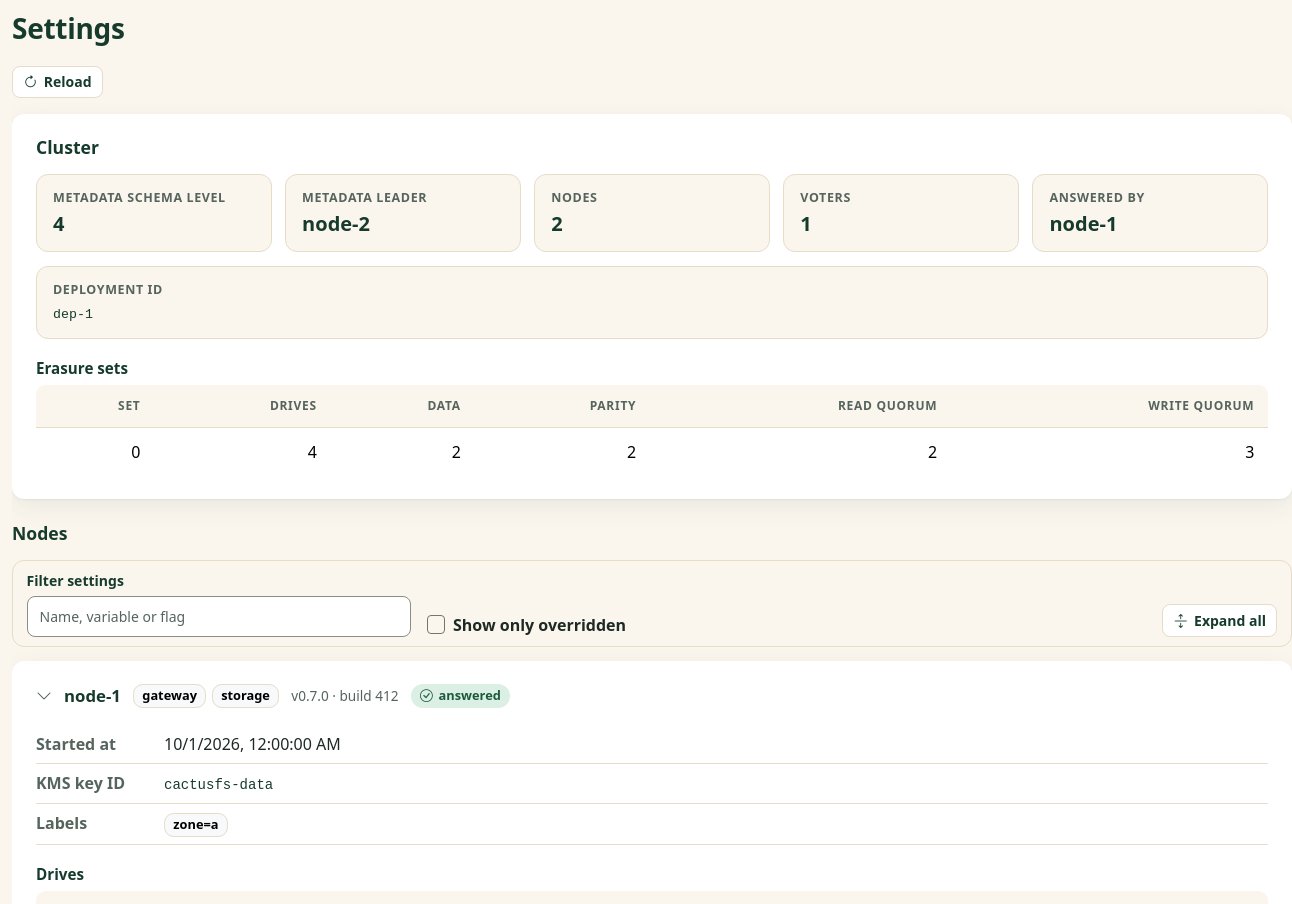
it: settings › opens the card of the answering node alone, and opens and closes all of them on request
The width and height of the screenshot is (1292, 904).
Step 1. Click the button "Expand all" → (1220, 620), box [1162,604,1277,637]
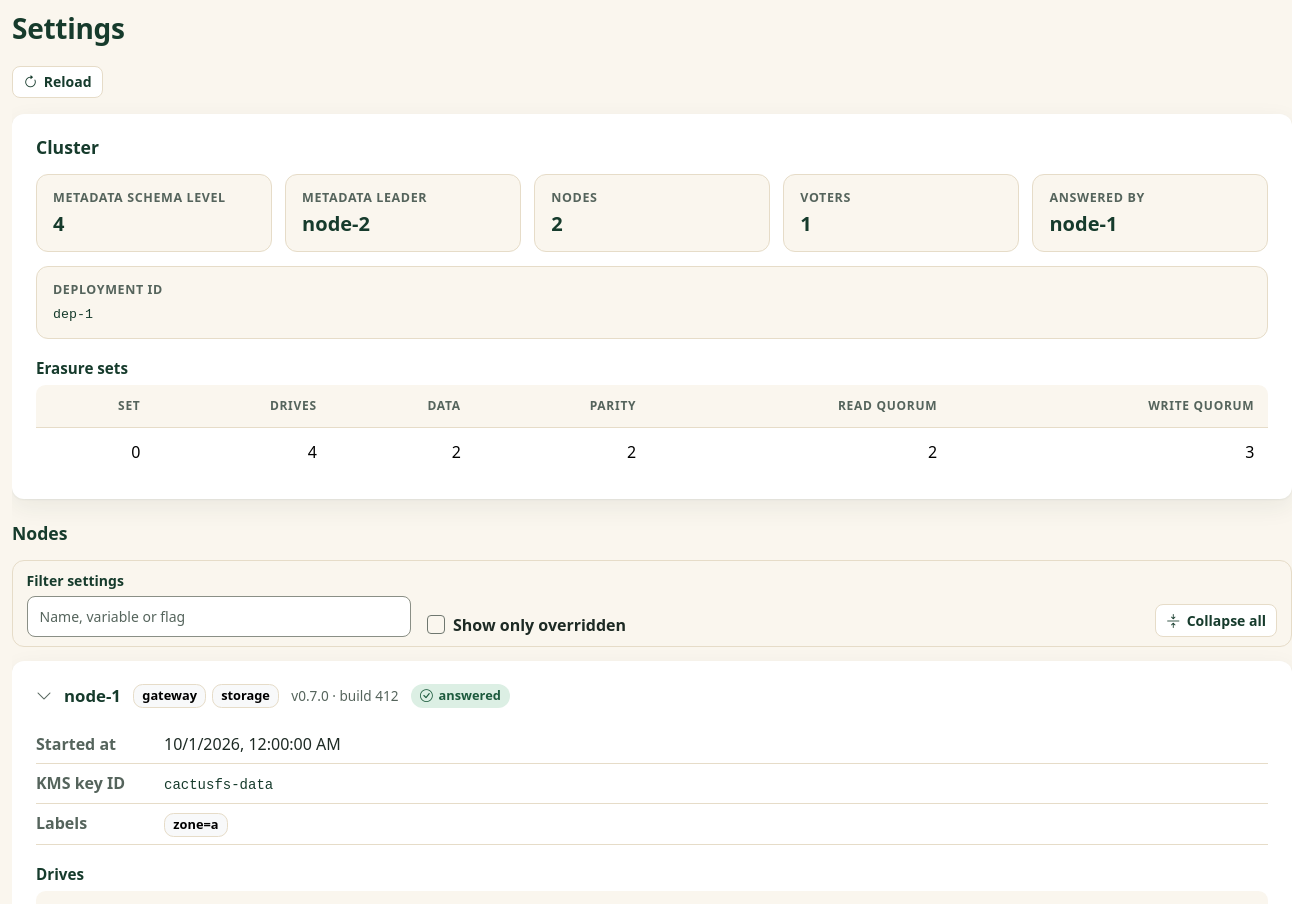
Step 2. Click the button "Collapse all" → (1216, 620), box [1155,604,1277,637]
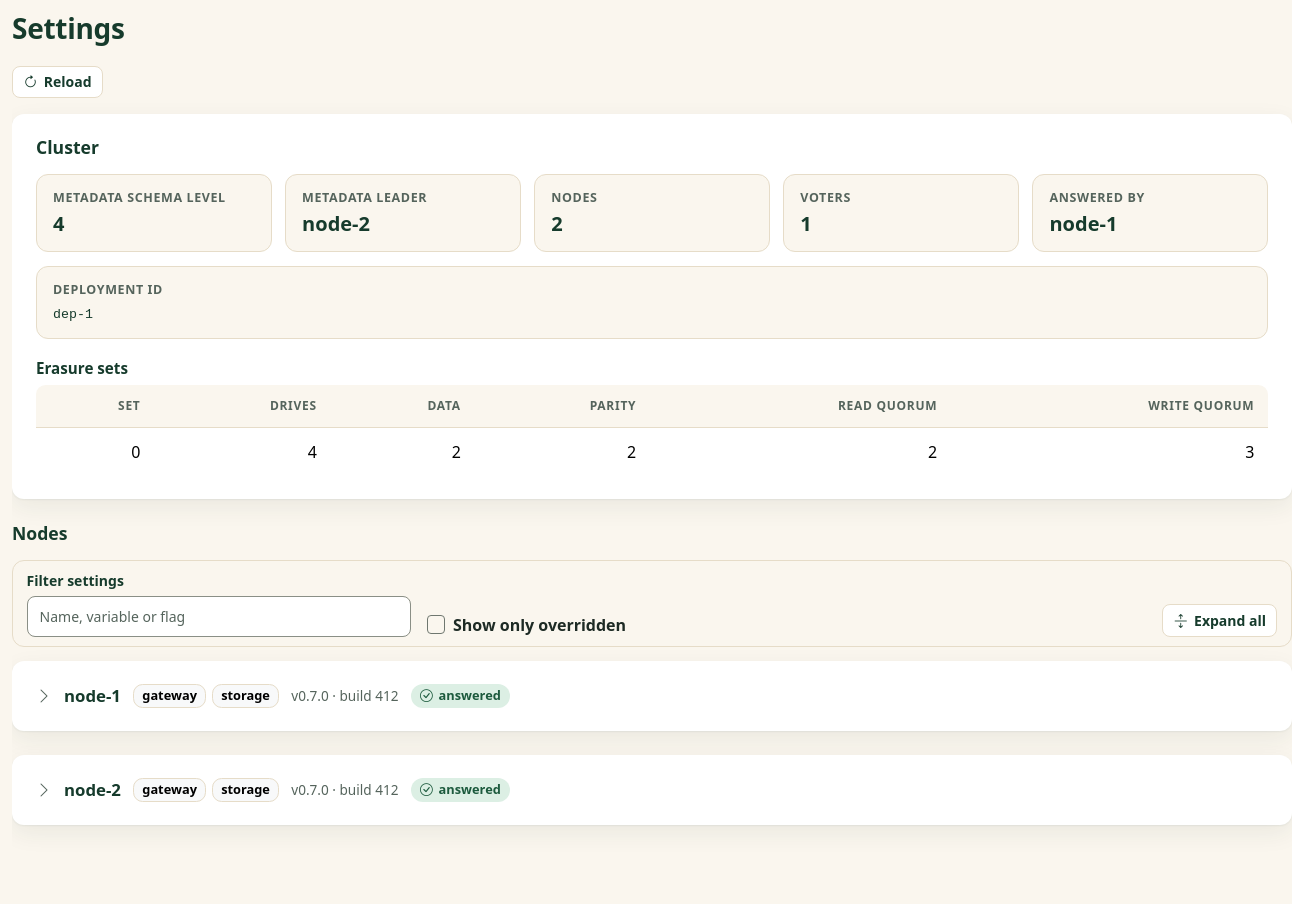
Result: the button "Expand all" is shown at [1162,604,1277,637]
